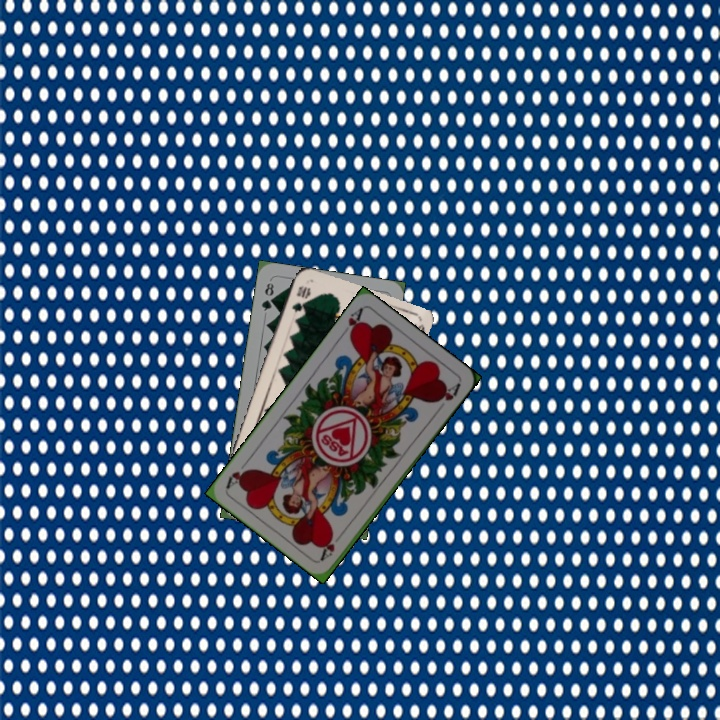G10: (288, 281, 312, 315)
G8: (257, 279, 276, 314)
HA: (316, 528, 346, 563), (336, 304, 365, 340)
